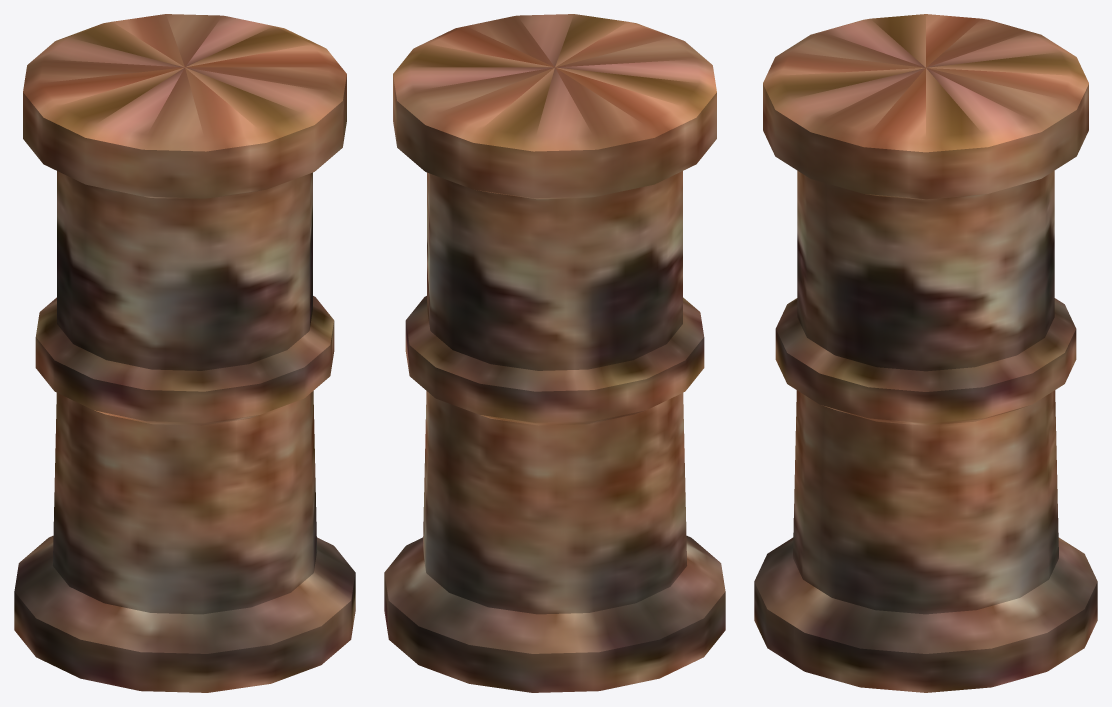
The model's file is SM_Banchina_Bitta_Ruggine.fbx.
3 renders of one model, left to right at view 1: azimuth 30°, elevation 25°; view 2: azimuth 150°, elevation 25°; view 3: azimuth 270°, elevation 25°, orthographic.
Visible parts, largest first — view 1: SM_Banchina_Bitta_Ruggine; view 2: SM_Banchina_Bitta_Ruggine; view 3: SM_Banchina_Bitta_Ruggine.
Part boxes in pixels (x1=…): SM_Banchina_Bitta_Ruggine: x1=14, y1=14, x2=355, y2=692; SM_Banchina_Bitta_Ruggine: x1=384, y1=14, x2=725, y2=692; SM_Banchina_Bitta_Ruggine: x1=754, y1=14, x2=1097, y2=692.
Size of what is drawn, in the model's own units: 40 by 40 by 71.
Materials: 1 (1 with a texture image).
